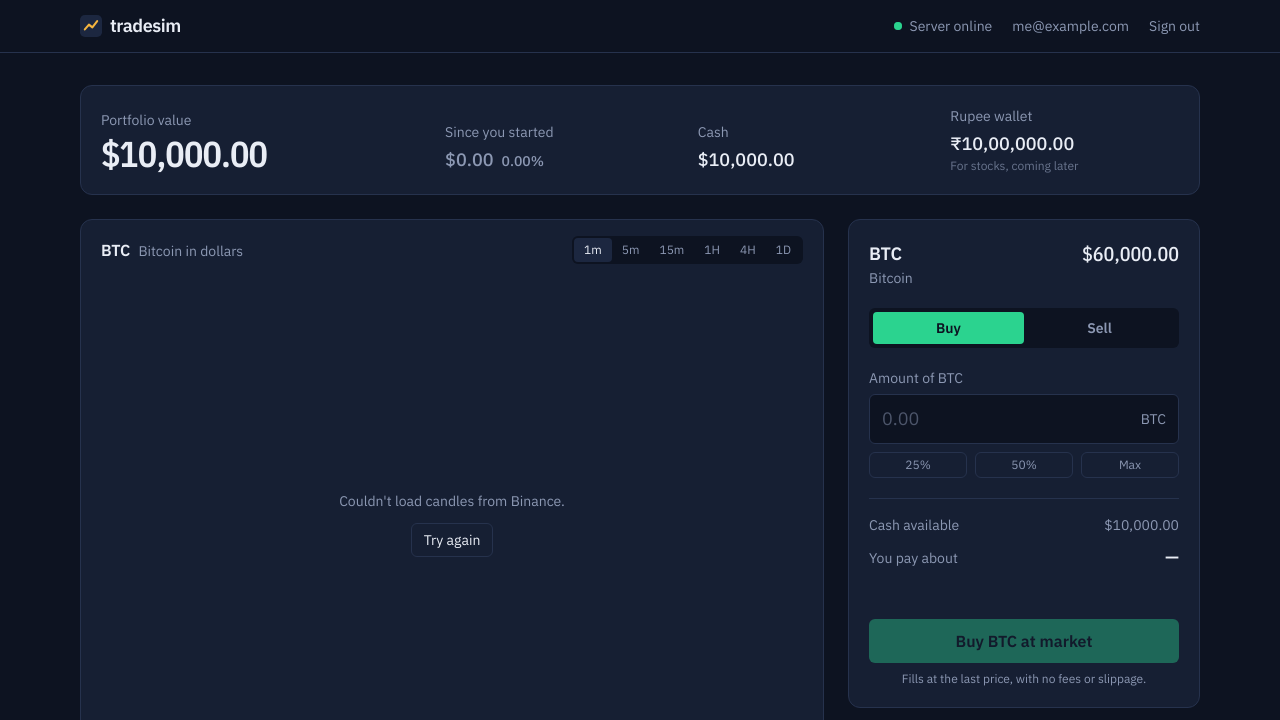
refuses an order the wallet can't cover before sending it
Step 1. Type "1" into the field labelled "Amount of BTC BTC" → (1005, 419), box [870, 395, 1141, 443]
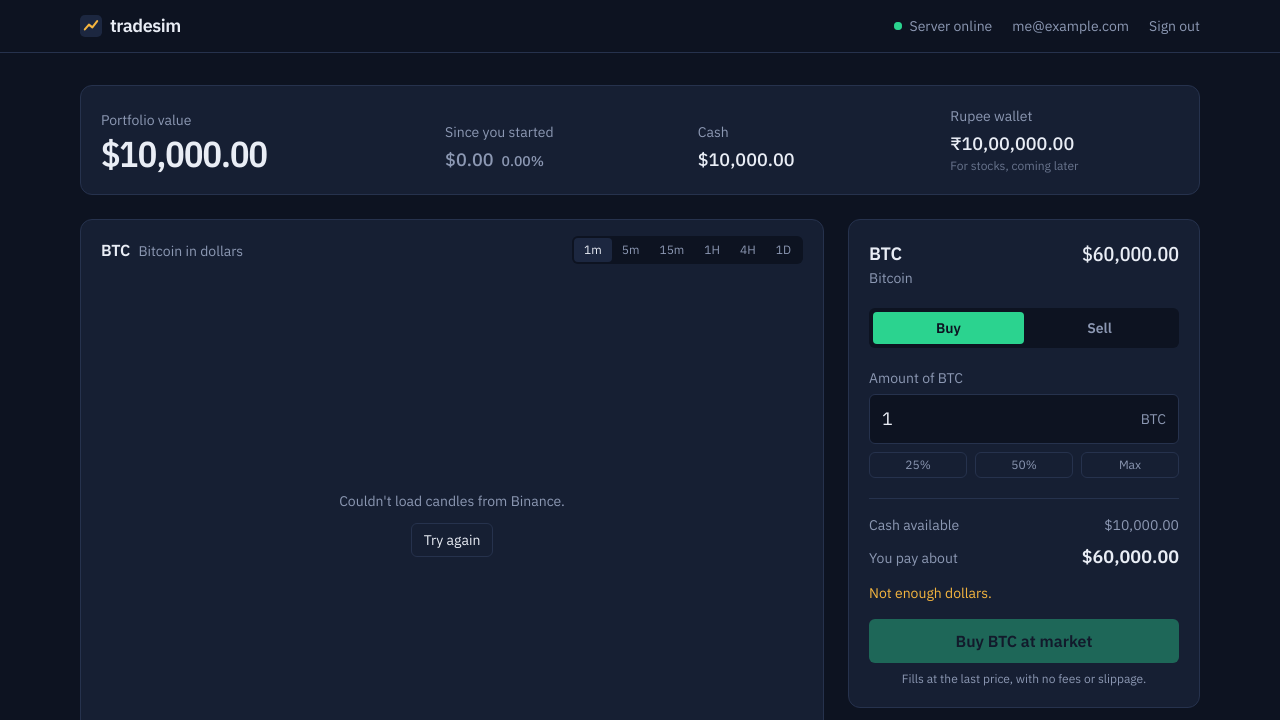
Expected: the button "Buy BTC at market" is disabled, [869, 619, 1179, 663]
Expected: the text "Not enough dollars." is shown, [869, 584, 992, 602]
